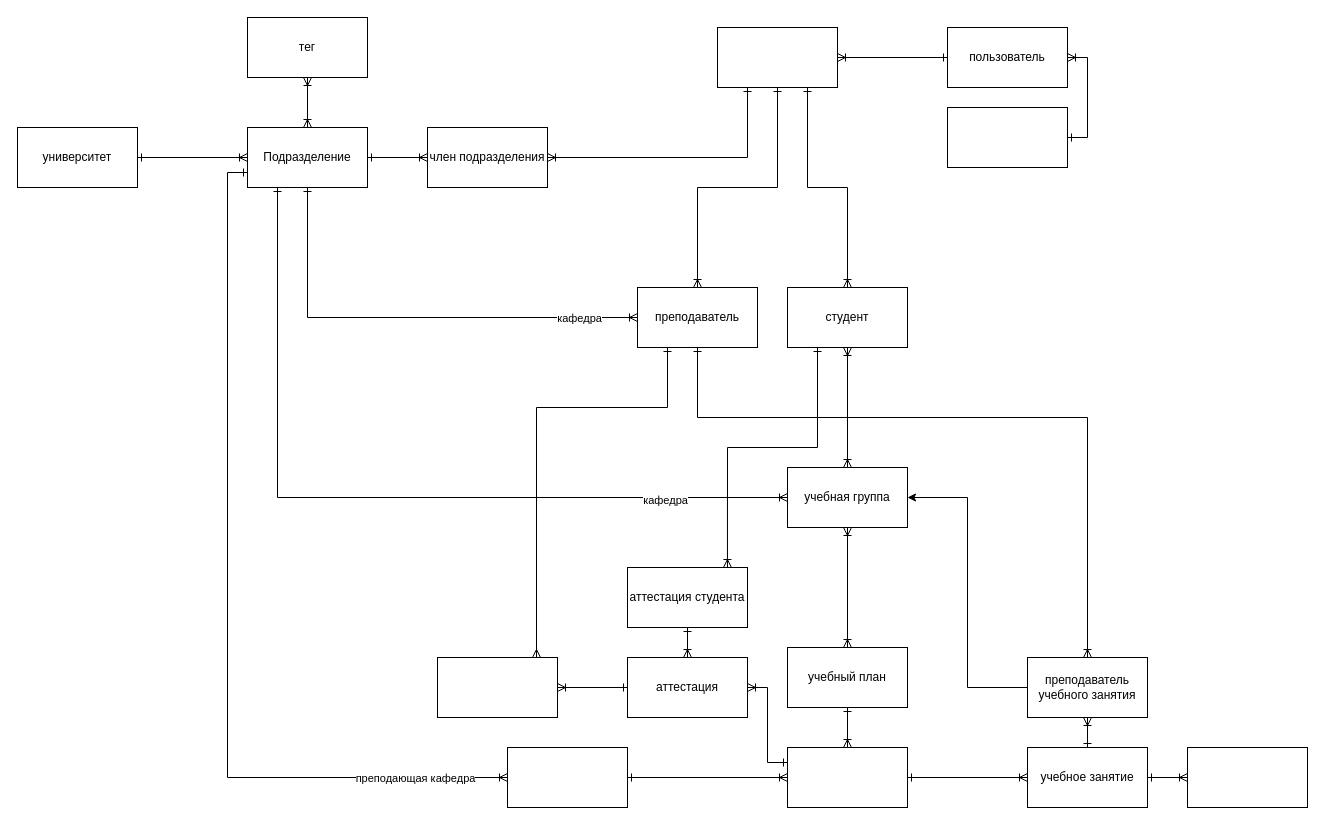
Image size: 1325x825. Some labels were removed from this diagram. The shapes that lost their labels are listed below. From the top down, each one's centre as x and y in pixels, then its label:
At pixel 777 57: "человек".
At pixel 1007 137: "сессия пользователя".
At pixel 497 687: "экзаменатор аттестации".
At pixel 567 777: "учебная дисциплина".
At pixel 847 777: "элемент учебного плана".
At pixel 1247 777: "тип учебного занятия".
